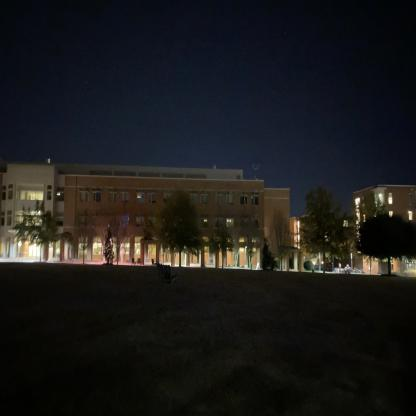eb3: (0, 151, 307, 276)
